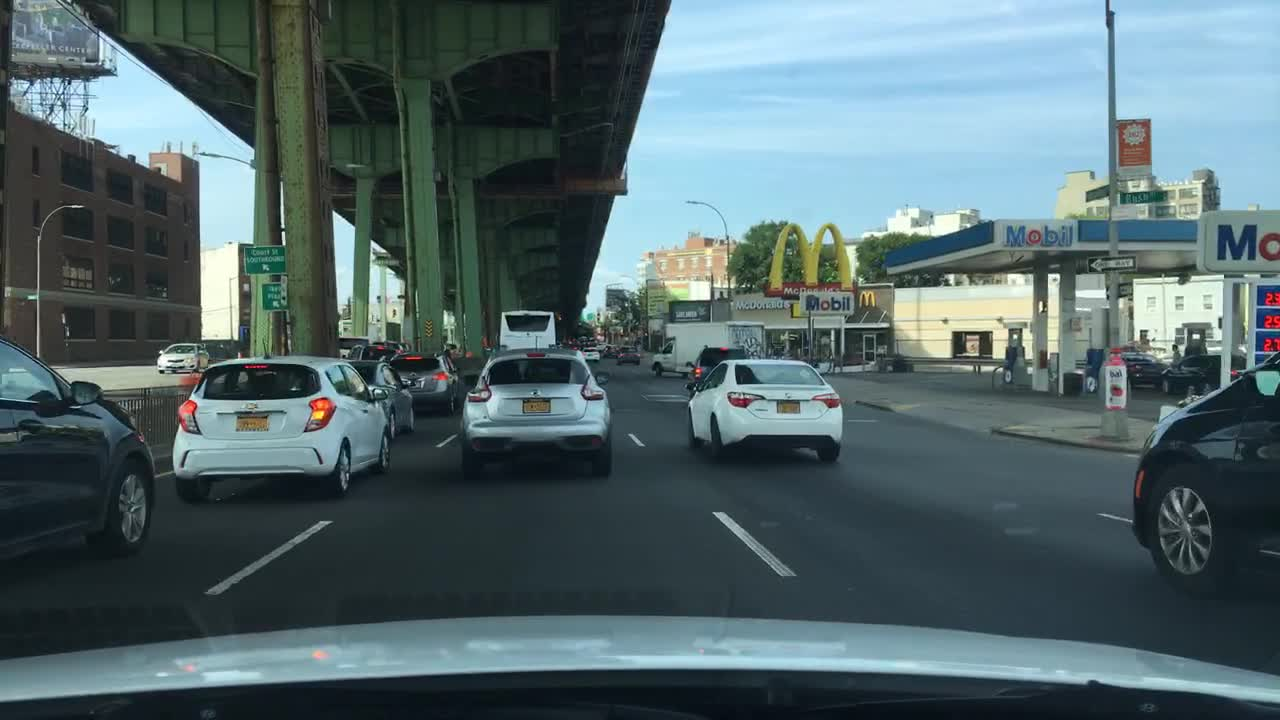bus: (497, 308, 555, 350)
car: (0, 325, 162, 584), (1130, 346, 1278, 600), (170, 352, 394, 504), (456, 347, 614, 479), (684, 357, 843, 465), (350, 357, 418, 435), (388, 351, 461, 412), (683, 345, 748, 401), (1156, 352, 1247, 392), (1119, 349, 1169, 388), (155, 340, 209, 375), (344, 340, 400, 366), (618, 343, 638, 366), (369, 336, 400, 349), (1166, 342, 1181, 364), (582, 345, 601, 361), (601, 342, 622, 355)
traffic sign: (240, 244, 288, 274), (1083, 253, 1137, 271), (1081, 181, 1112, 206), (261, 284, 289, 309), (1117, 190, 1170, 201), (1105, 279, 1132, 300)
truck: (652, 320, 769, 379)
